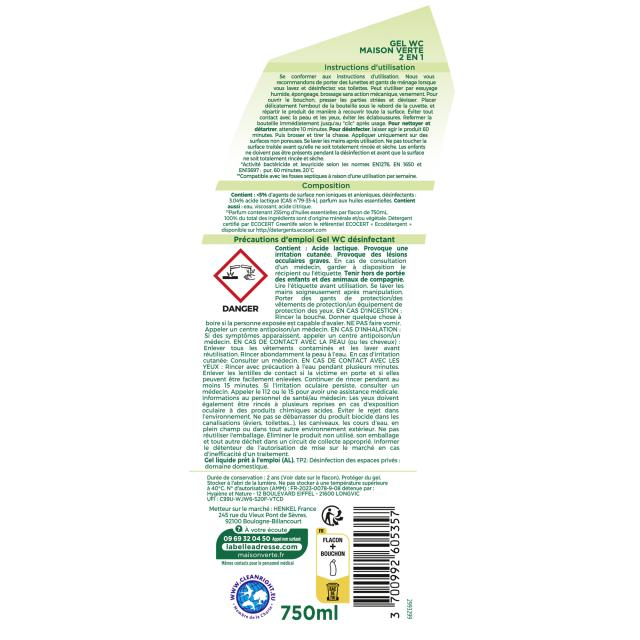GHS_Symbol_CORROSION: (213, 249, 267, 303)
